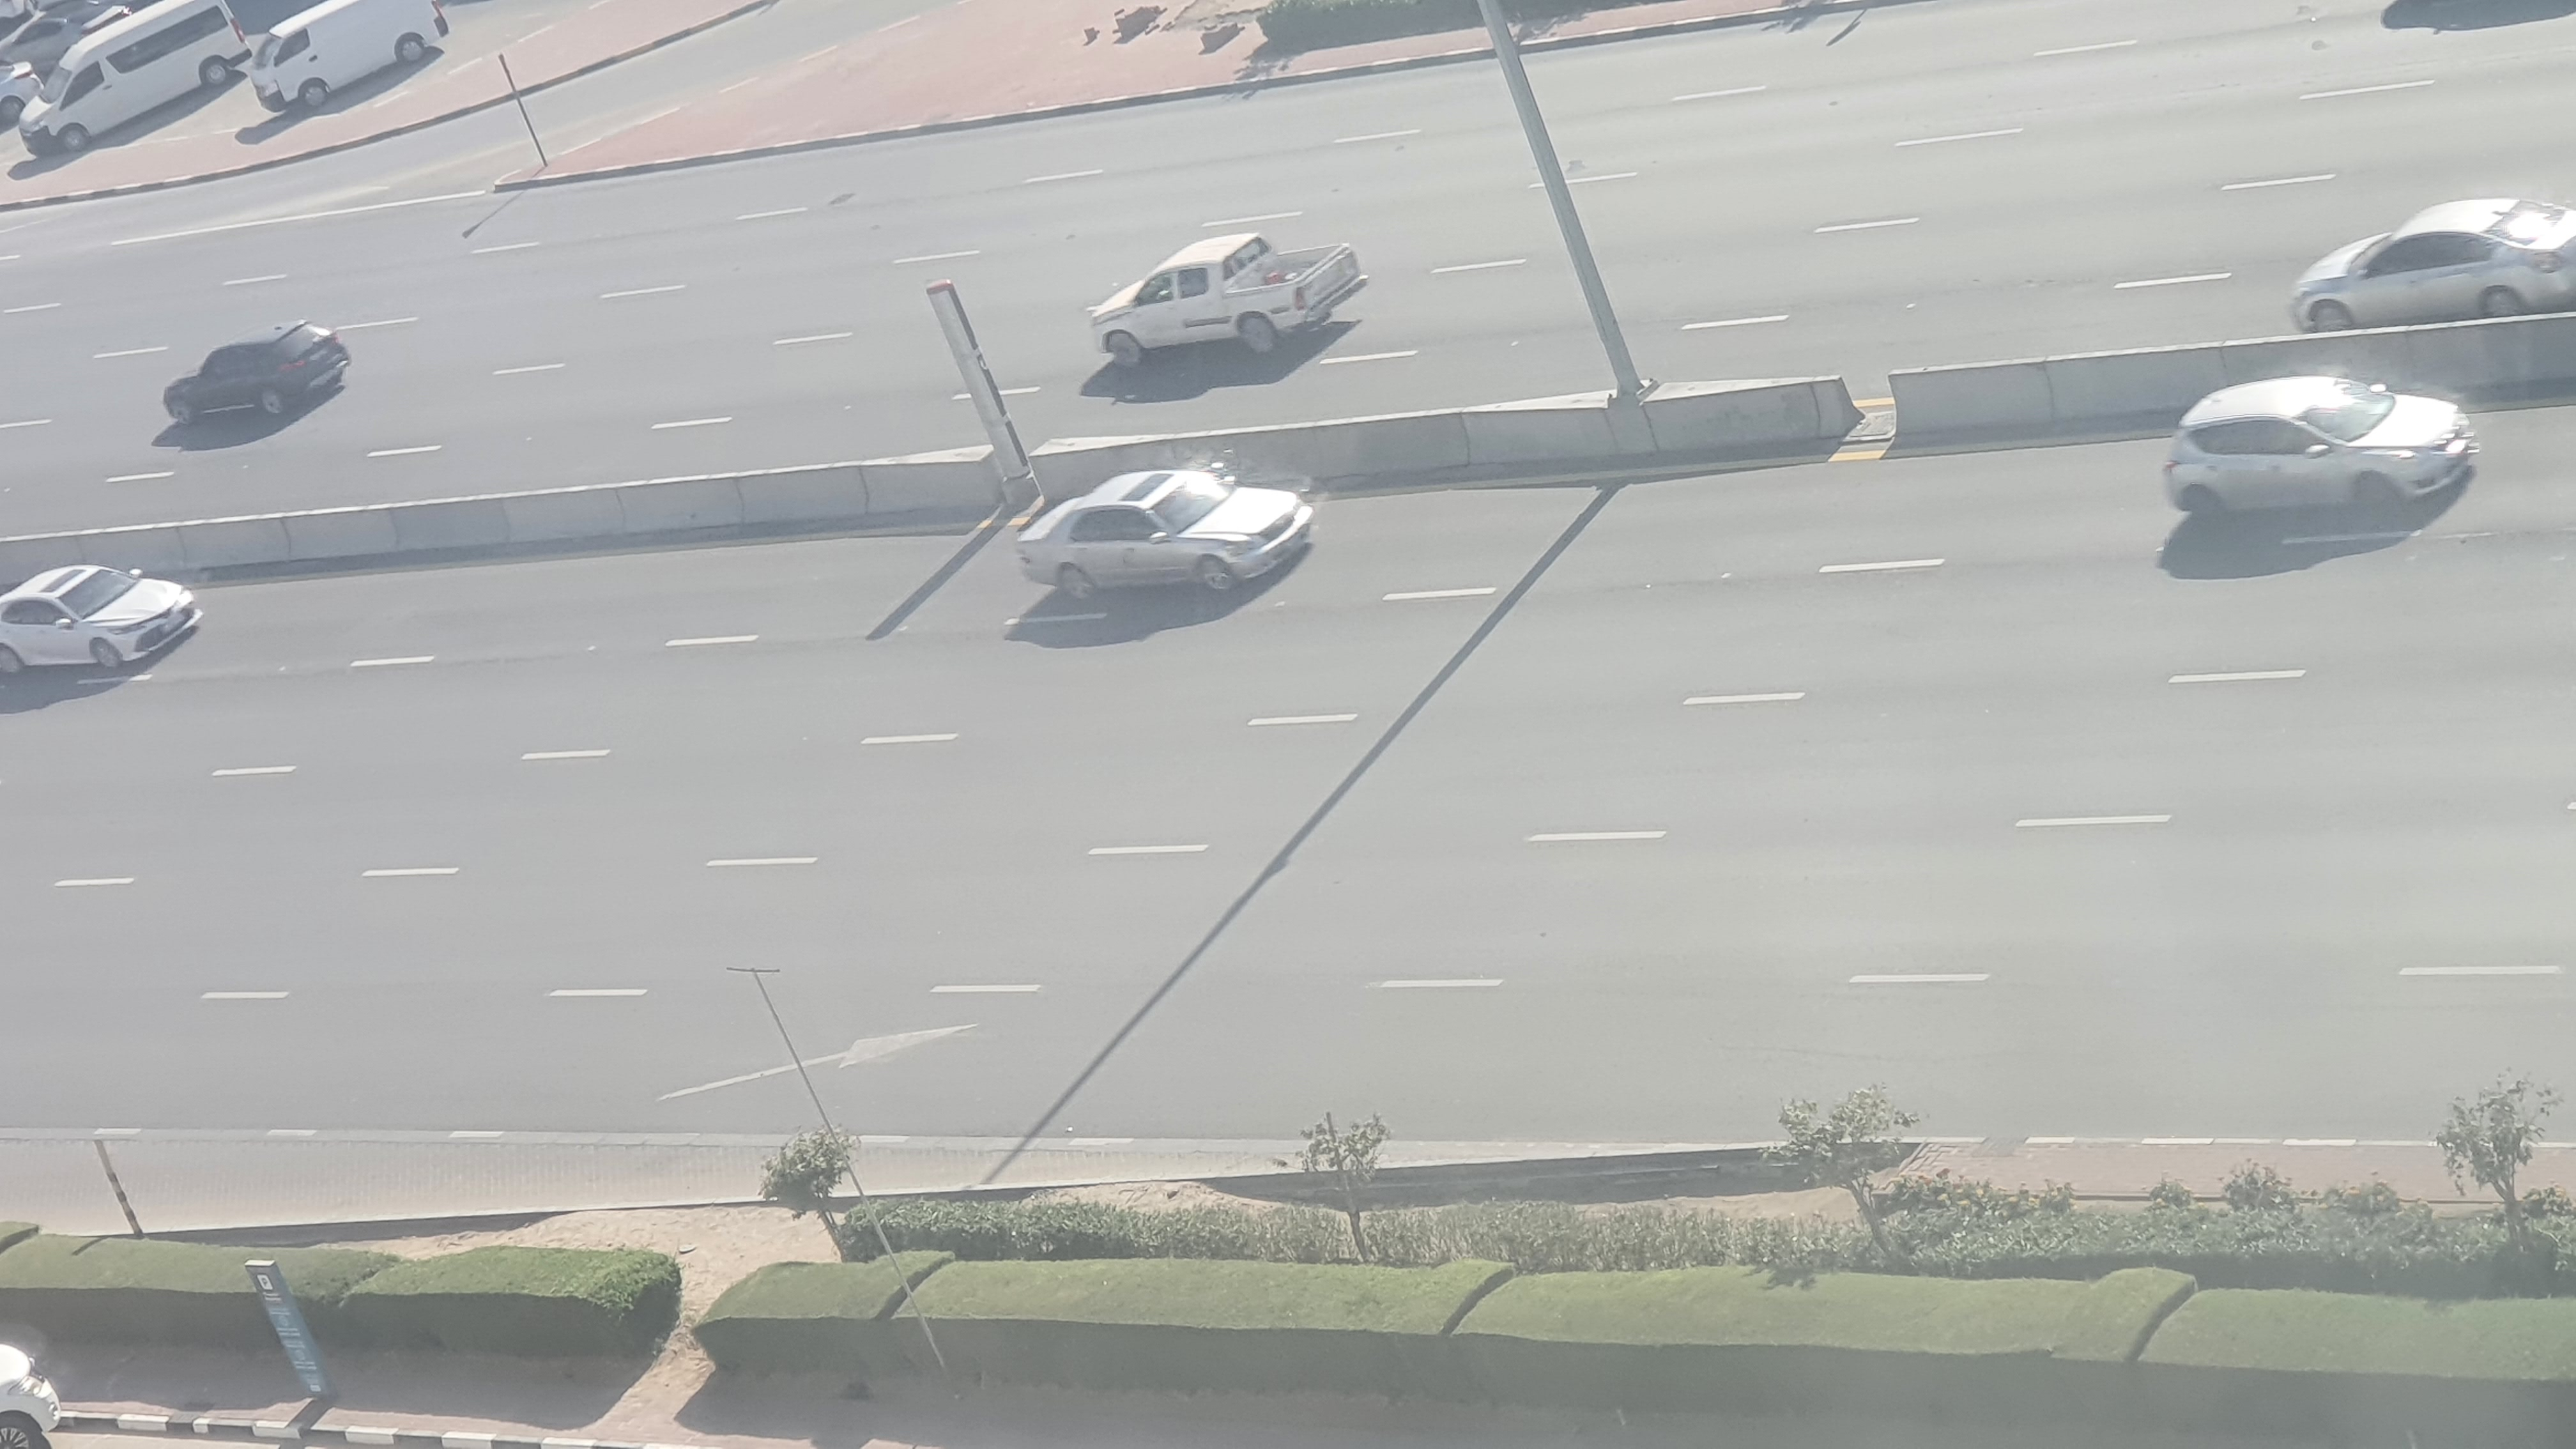NotSunroof: (2160, 372, 2479, 529)
Sunroof: (1010, 467, 1318, 605), (4, 559, 196, 679)
